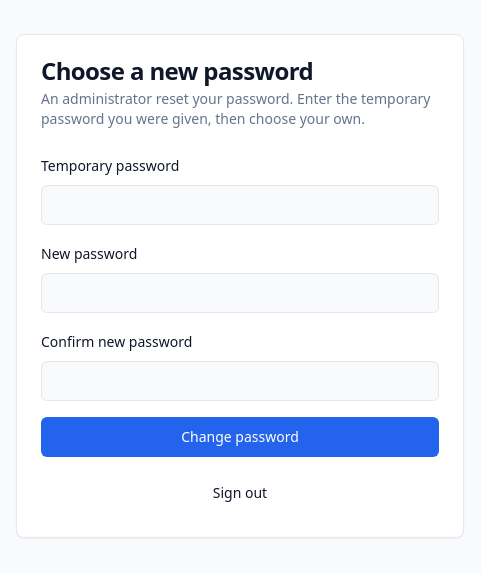
ForcedPasswordChange › shows the server's message when the current password is wrong
Type "wrong" into the password field labelled "Temporary password" at (240,205), box 41,185 -> 439,225
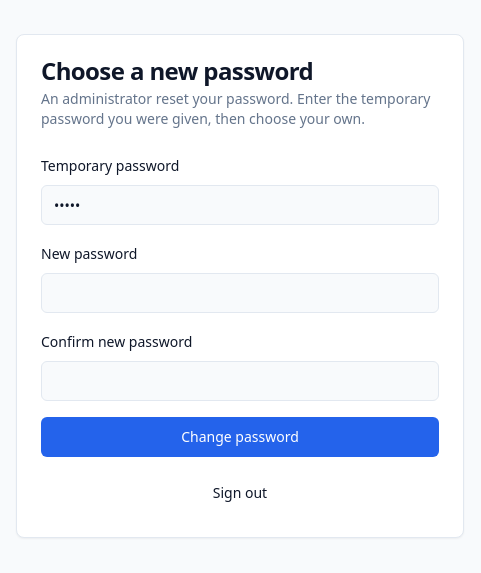
Type "Brand-new-pw-1" into the password field labelled "New password" at (240,293), box 41,273 -> 439,313
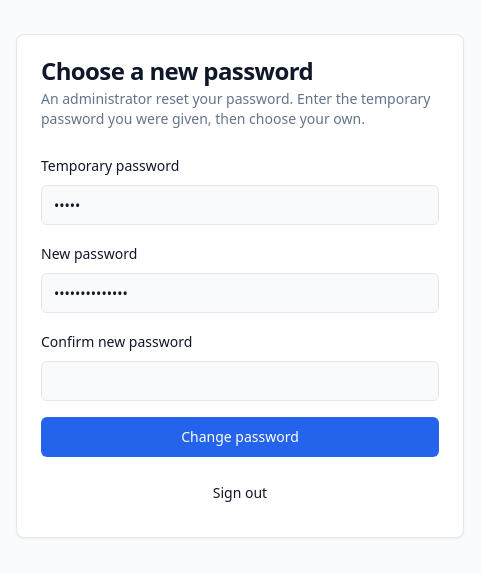
Type "Brand-new-pw-1" into the password field labelled "Confirm new password" at (240,381), box 41,361 -> 439,401
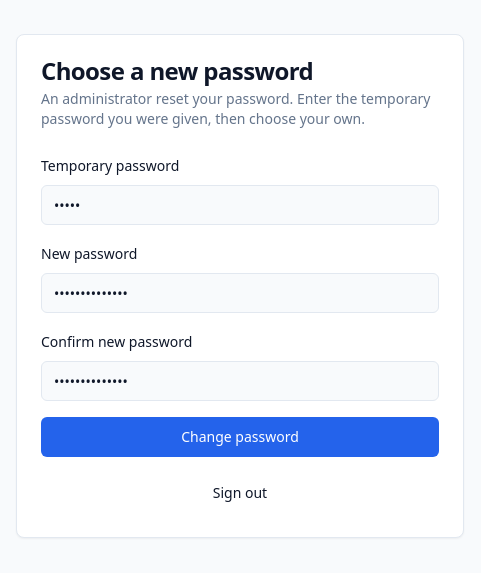
Click the button "Change password" at (240,437), box 41,417 -> 439,457
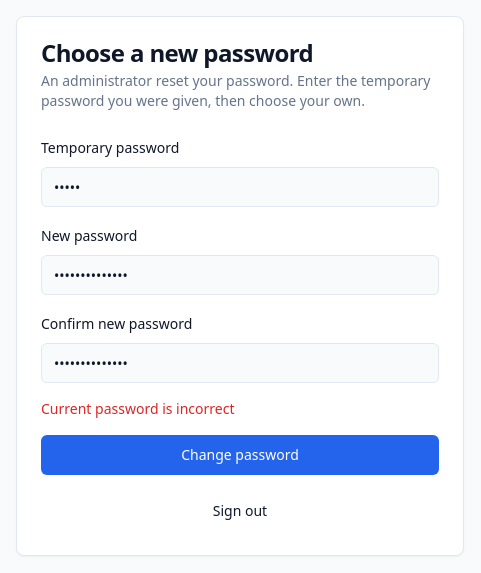
Expected: the message reads "Current password is incorrect", 41,399 -> 234,418
